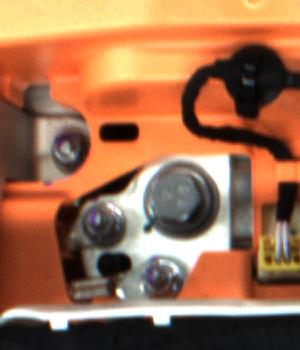nut_b: (137, 159, 226, 239)
